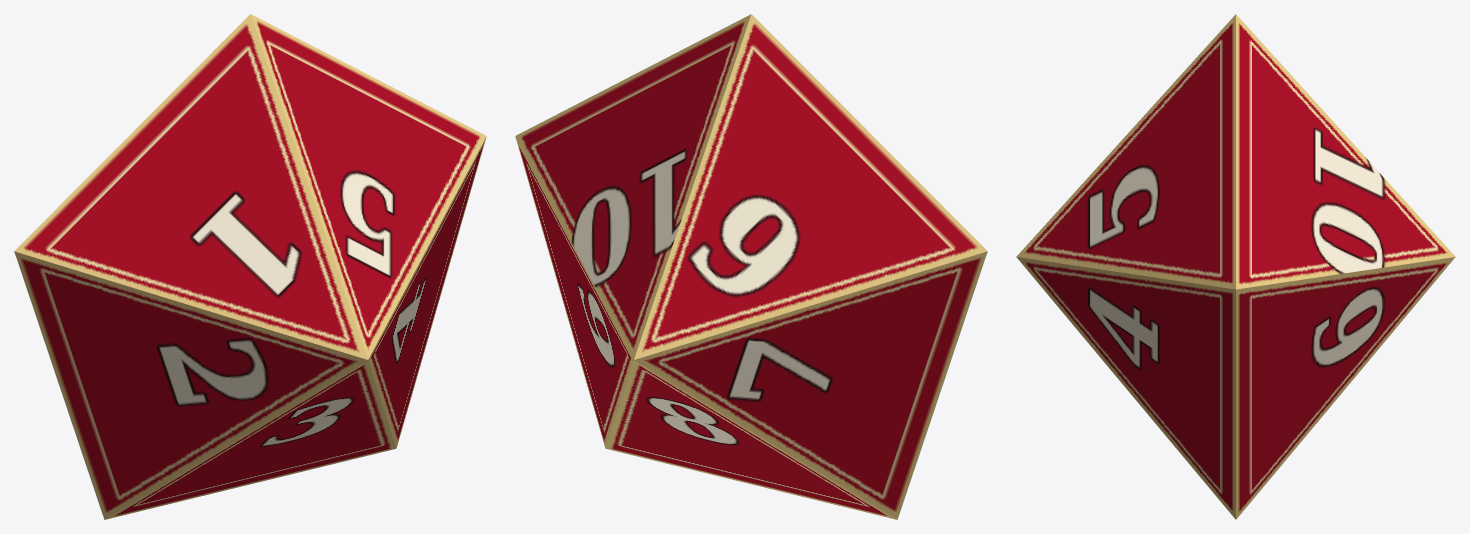
The model's file is ruby_d10.glb.
3 views of the same model, side by side, from view 1: azimuth 30°, elevation 25°; view 2: azimuth 150°, elevation 25°; view 3: azimuth 270°, elevation 25° (orthographic). The views are drawn at different scales.
Parts seen in each view (by area): view 1: world; view 2: world; view 3: world.
Part boxes in pixels (x1,y1,x2,y2): world: (14,14,486,519); world: (515,14,987,519); world: (1016,14,1455,519).
Size of the model in its own units: 1.9 by 1.81 by 1.64.
Materials: 1 (1 with a texture image).
